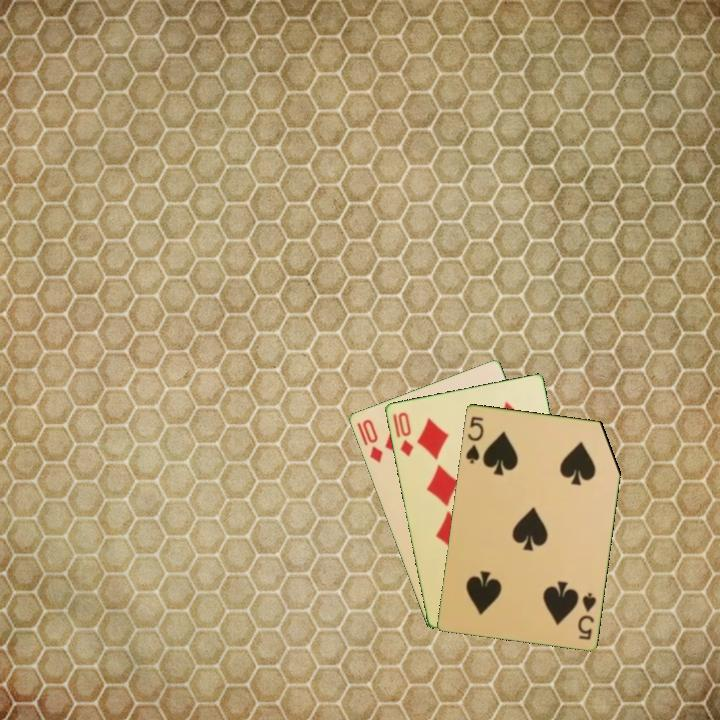10d: (358, 415, 386, 465), (394, 408, 416, 459)
5s: (574, 589, 599, 643), (462, 413, 487, 466)
